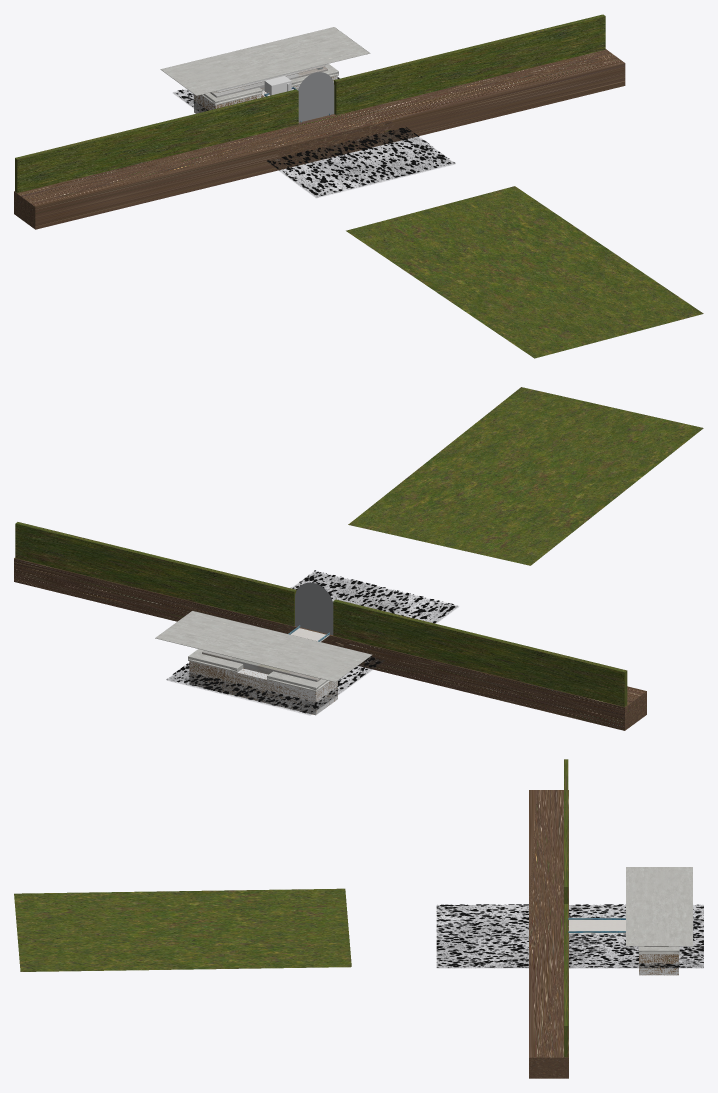
The model's file is Temmys-Castle3-ICON.q.glb.
3 renders of one model, top to bottom at view 1: azimuth 30°, elevation 25°; view 2: azimuth 150°, elevation 25°; view 3: azimuth 270°, elevation 25°, orthographic. The views are drawn at different scales.
Visible parts, largest first — view 1: grass texture, dirt block, Cube.017, Cube.018, Plane.004, ocean texture 1, ocean texture 2, Gate 1, ocean texture 3; view 2: grass texture, dirt block, Cube.017, Cube.018, Plane.004, Cube.010, ocean texture 1, Gate 1, ocean texture 2, Dirt Cork, ocean texture 3, Cube.003 (+2 smaller); view 3: grass texture, dirt block, ocean texture 1, Plane.004, ocean texture 2, ocean texture 3, Cube.010, Cube.018, Cube.017, Walkable_Plane, Dirt Cork.
Part boxes in pixels (x1=…): grass texture: x1=346, y1=186, x2=703, y2=358; dirt block: x1=14, y1=49, x2=625, y2=229; Cube.017: x1=15, y1=89, x2=298, y2=193; Cube.018: x1=334, y1=14, x2=605, y2=115; Plane.004: x1=160, y1=27, x2=370, y2=95; ocean texture 1: x1=176, y1=77, x2=455, y2=195; ocean texture 2: x1=174, y1=90, x2=453, y2=196; Gate 1: x1=298, y1=72, x2=334, y2=122; ocean texture 3: x1=174, y1=93, x2=453, y2=197; grass texture: x1=348, y1=387, x2=703, y2=565; dirt block: x1=14, y1=558, x2=646, y2=730; Cube.017: x1=333, y1=599, x2=627, y2=706; Cube.018: x1=15, y1=522, x2=296, y2=626; Plane.004: x1=155, y1=611, x2=372, y2=682; Cube.010: x1=189, y1=661, x2=337, y2=715; ocean texture 1: x1=166, y1=570, x2=455, y2=713; Gate 1: x1=295, y1=582, x2=333, y2=635; ocean texture 2: x1=168, y1=571, x2=457, y2=714; Dirt Cork: x1=189, y1=661, x2=337, y2=714; ocean texture 3: x1=167, y1=572, x2=456, y2=714; Cube.003: x1=202, y1=650, x2=320, y2=681; grass texture: x1=14, y1=888, x2=351, y2=971; dirt block: x1=529, y1=790, x2=568, y2=1078; ocean texture 1: x1=436, y1=904, x2=703, y2=967; Plane.004: x1=626, y1=867, x2=692, y2=946; ocean texture 2: x1=437, y1=905, x2=703, y2=967; ocean texture 3: x1=437, y1=905, x2=703, y2=968; Cube.010: x1=639, y1=954, x2=678, y2=975; Cube.018: x1=564, y1=904, x2=568, y2=1057; Cube.017: x1=564, y1=759, x2=568, y2=903; Walkable_Plane: x1=569, y1=920, x2=625, y2=933; Dirt Cork: x1=639, y1=954, x2=678, y2=975.
Size of the model in its own units: 278 by 30.98 by 303.
19 materials, 17 textured.
